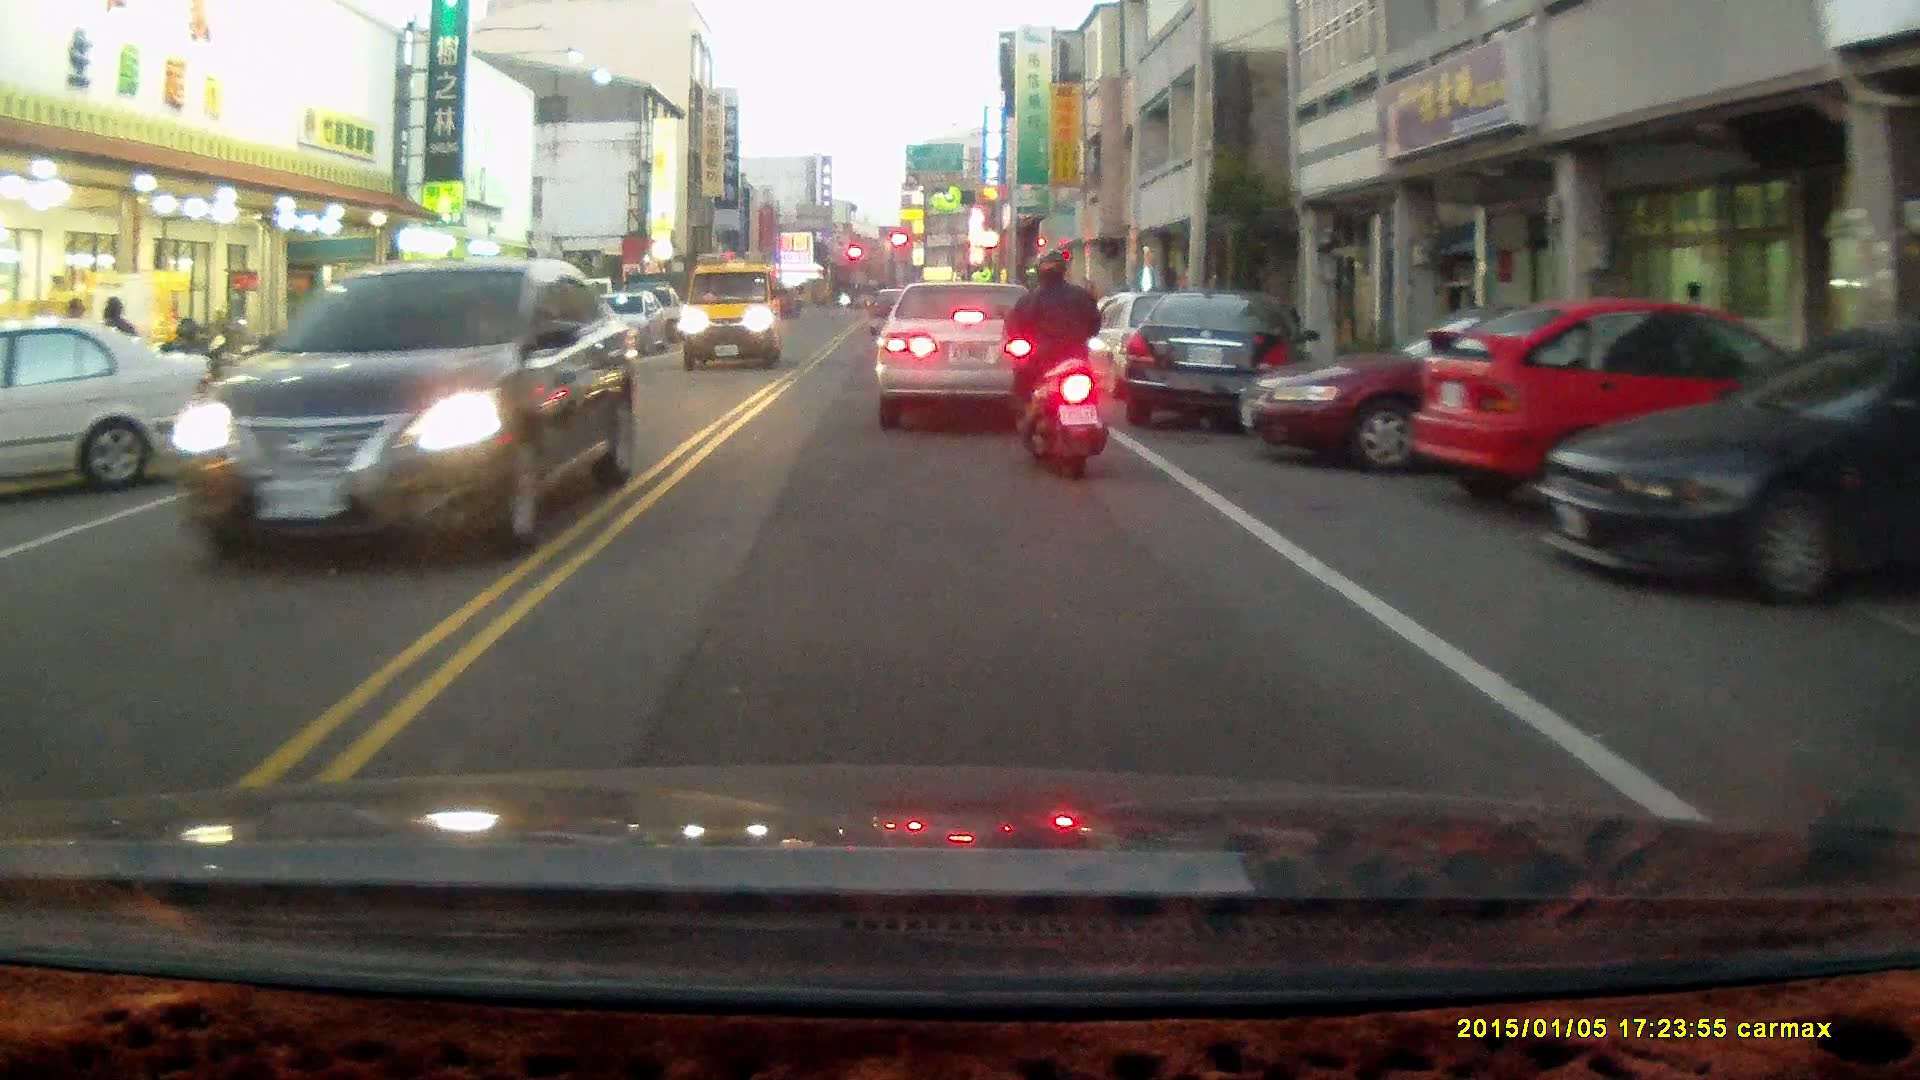rider: (994, 251, 1116, 485)
vehicle: (178, 256, 642, 560), (1529, 328, 1920, 610), (1410, 303, 1817, 529), (1237, 308, 1688, 478), (1, 316, 217, 506), (872, 280, 1051, 423), (1113, 294, 1295, 433), (678, 263, 781, 373)
